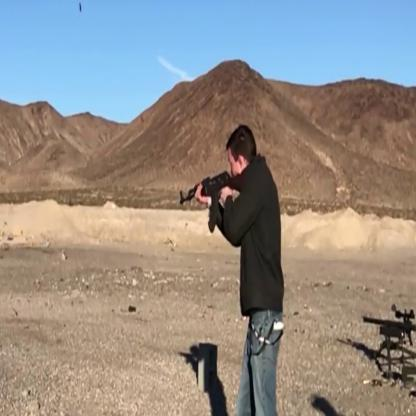long weapon: (342, 290, 416, 369), (172, 169, 244, 240)
